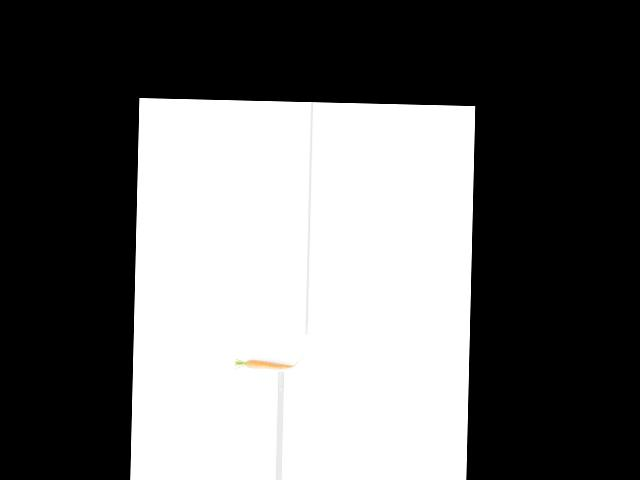carrot: (242, 357, 284, 372)
